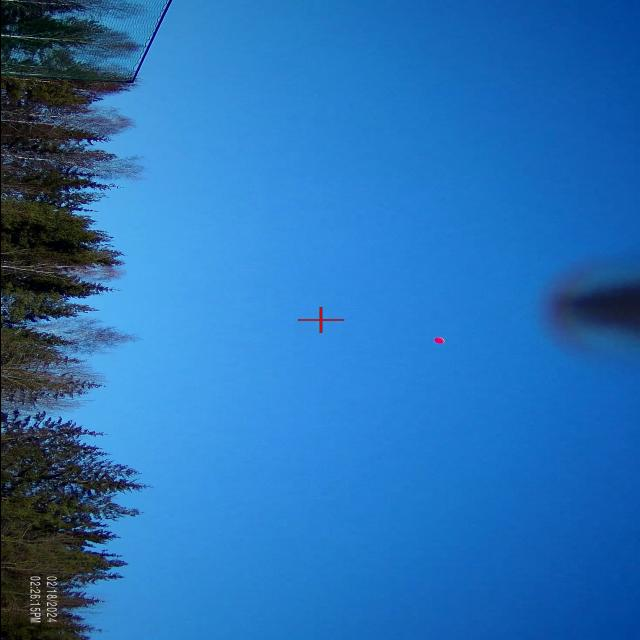entire: (429, 332, 445, 346)
